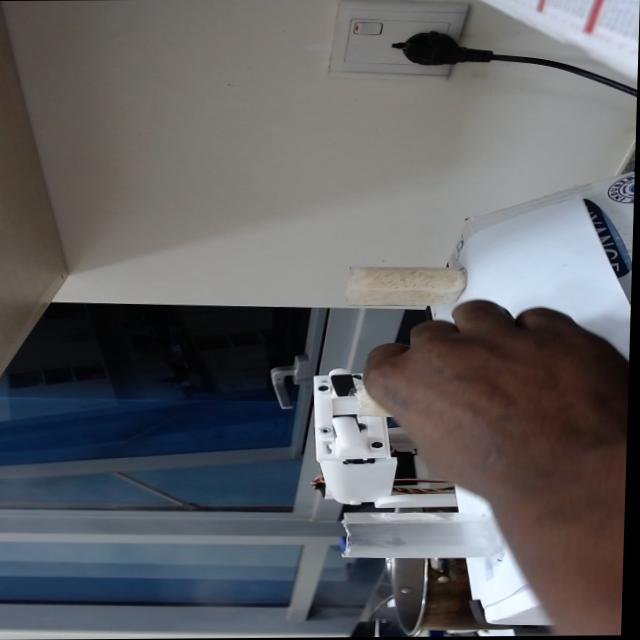raw_rice: (344, 265, 467, 308)
